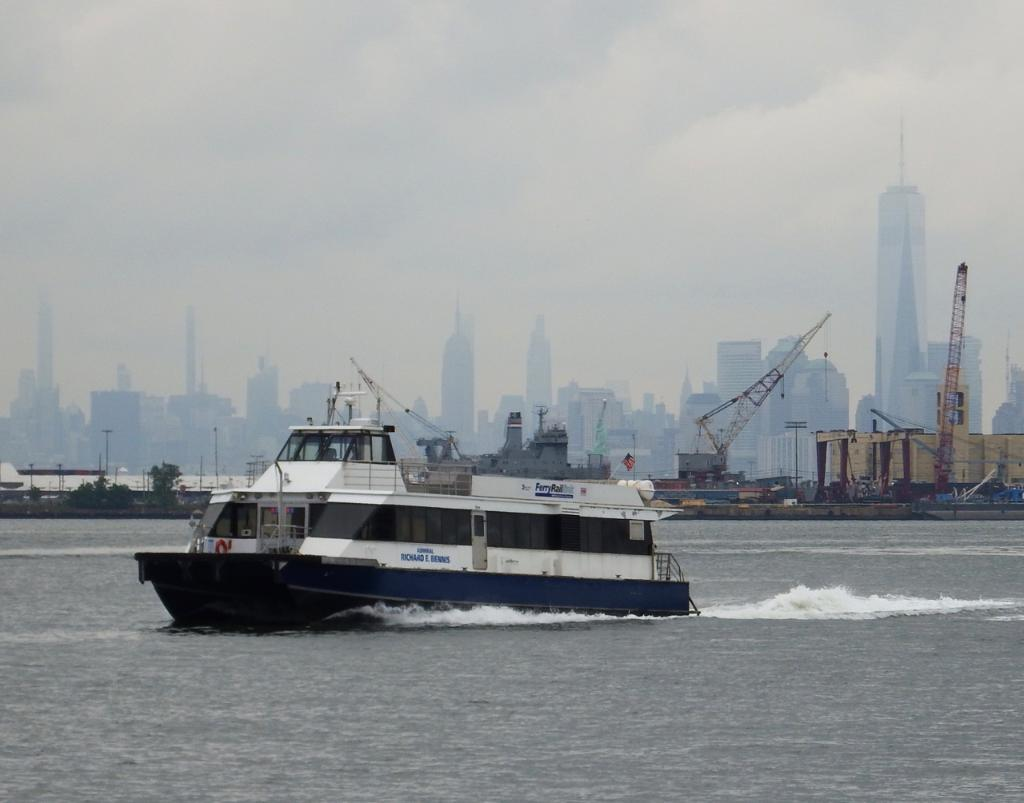PassengerShip: (129, 366, 697, 640)
